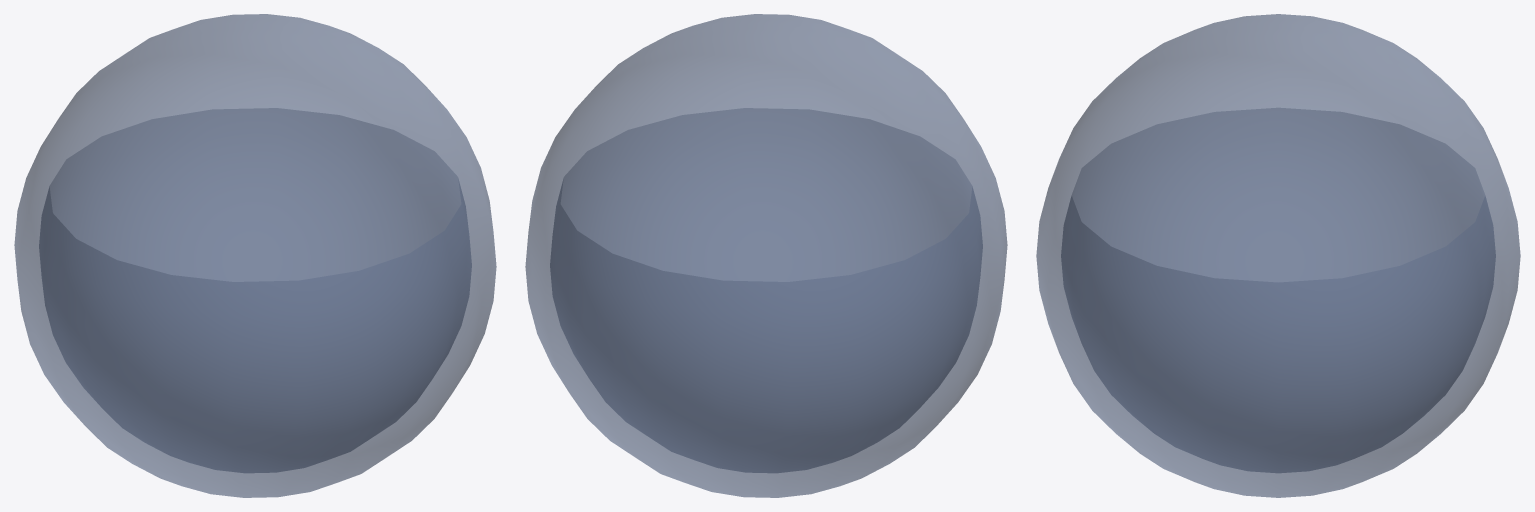
Rendered from bola.fbx.
3 views of the same model, side by side, from view 1: azimuth 30°, elevation 25°; view 2: azimuth 150°, elevation 25°; view 3: azimuth 270°, elevation 25° (orthographic).
Visible parts, largest first — view 1: pSphere16, pSphere18; view 2: pSphere16, pSphere18; view 3: pSphere16, pSphere18.
Part boxes in pixels (<box>): pSphere16: <box>14,14,496,497</box>; pSphere18: <box>39,108,471,472</box>; pSphere16: <box>525,14,1007,497</box>; pSphere18: <box>550,108,982,472</box>; pSphere16: <box>1036,14,1520,497</box>; pSphere18: <box>1061,108,1495,472</box>.
Bounding box in the file's own units: 30.45 × 30.45 × 30.45.
